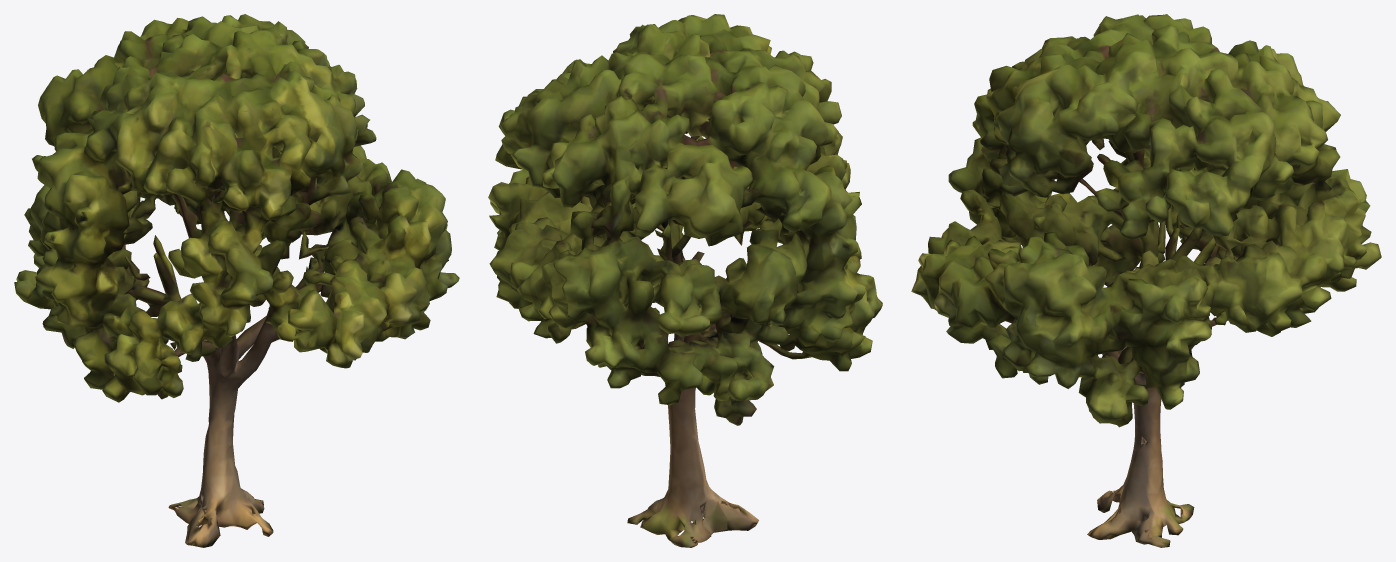
Rendered from AI_OpenCrownPecanTree.fbx.
3 renders of one model, left to right at view 1: azimuth 30°, elevation 25°; view 2: azimuth 150°, elevation 25°; view 3: azimuth 270°, elevation 25°, orthographic.
Parts seen in each view (by area): view 1: Mesh_0; view 2: Mesh_0; view 3: Mesh_0.
Boxes of the visible parts, <box> form: Mesh_0: <box>14,14,459,547</box>; Mesh_0: <box>488,14,882,547</box>; Mesh_0: <box>911,14,1381,547</box>.
Bounding box in the file's own units: 159 × 200 × 172.
Materials: 1 (1 with a texture image).
